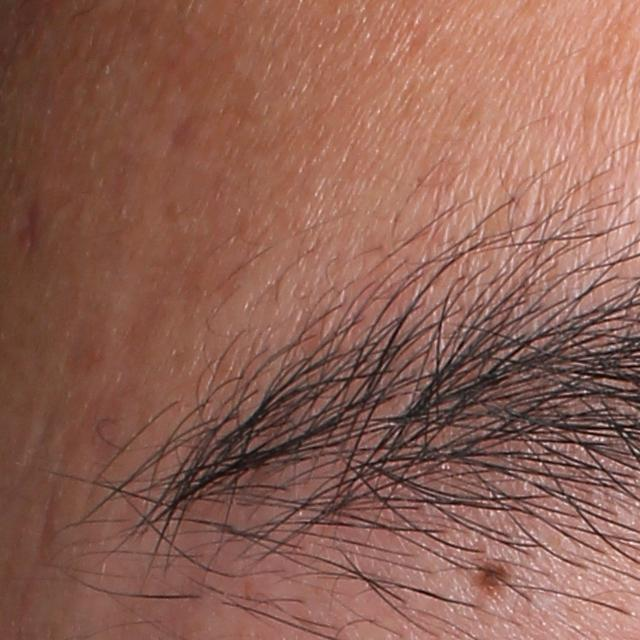atrophic_scar: (15, 197, 42, 253)
nevus: (467, 555, 509, 600)
